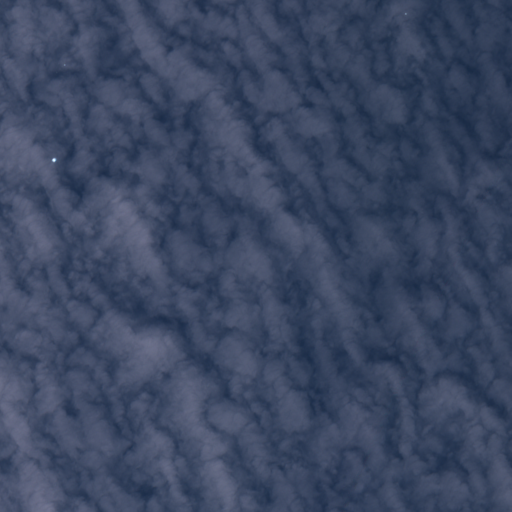Iceberg: (52, 158, 56, 162), (405, 13, 406, 14), (64, 64, 65, 65)
